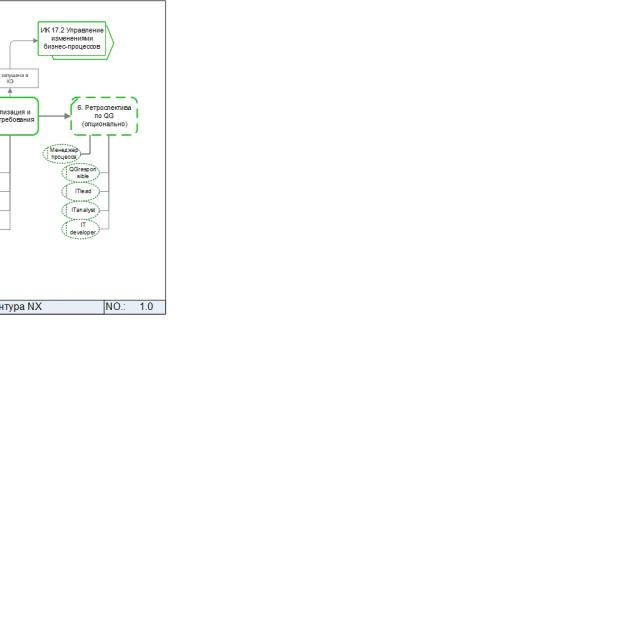arrow: (8, 36, 37, 69), (38, 111, 70, 120), (6, 88, 14, 97)
rectangle: (70, 96, 138, 137), (36, 20, 106, 56)
